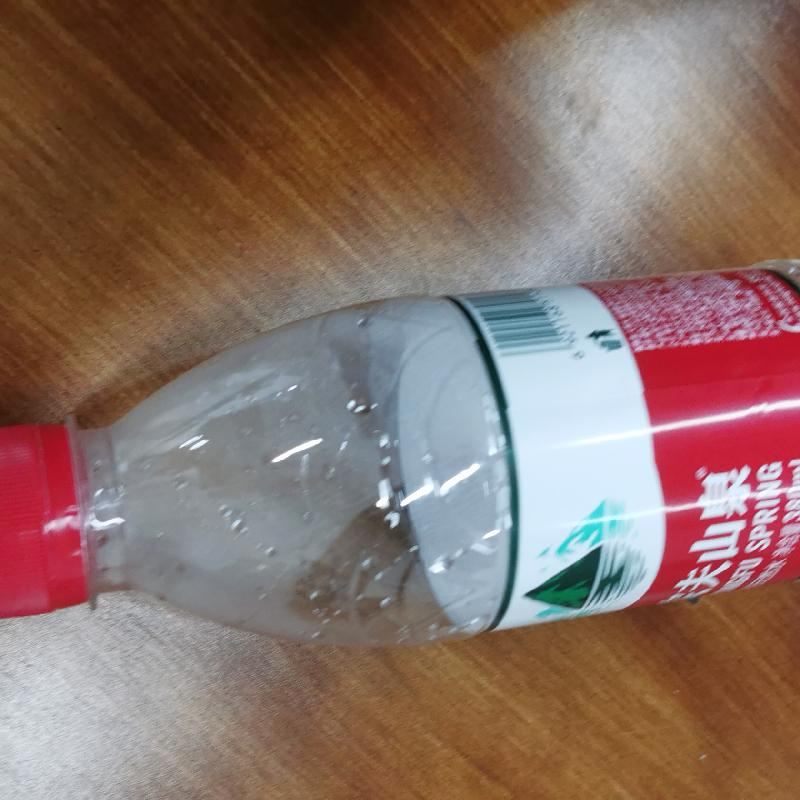bottles: (15, 240, 800, 649)
